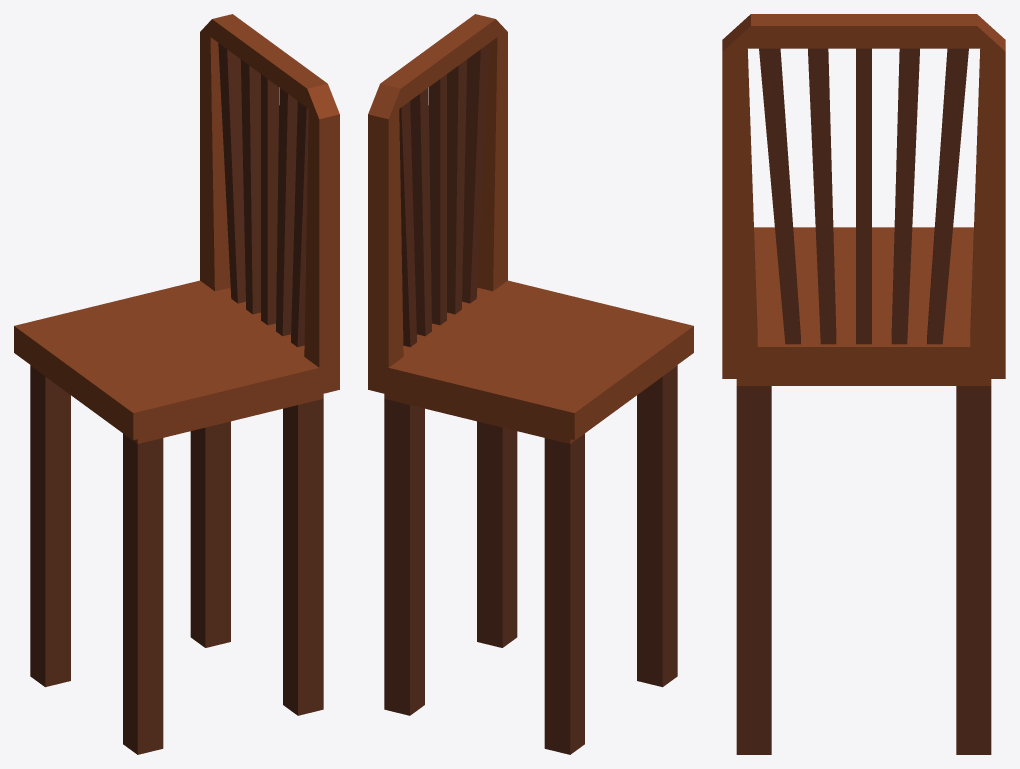
File: BarStoel.fbx
3 renders of one model, left to right at view 1: azimuth 30°, elevation 25°; view 2: azimuth 150°, elevation 25°; view 3: azimuth 270°, elevation 25°, orthographic. The views are drawn at different scales.
Visible parts, largest first — view 1: Stoel; view 2: Stoel; view 3: Stoel.
Part boxes in pixels (x1,y1,x2,y2): Stoel: (14, 14, 339, 754); Stoel: (368, 14, 693, 754); Stoel: (722, 14, 1005, 754).
Bounding box in the file's own units: 0.4 × 1.15 × 0.4.
